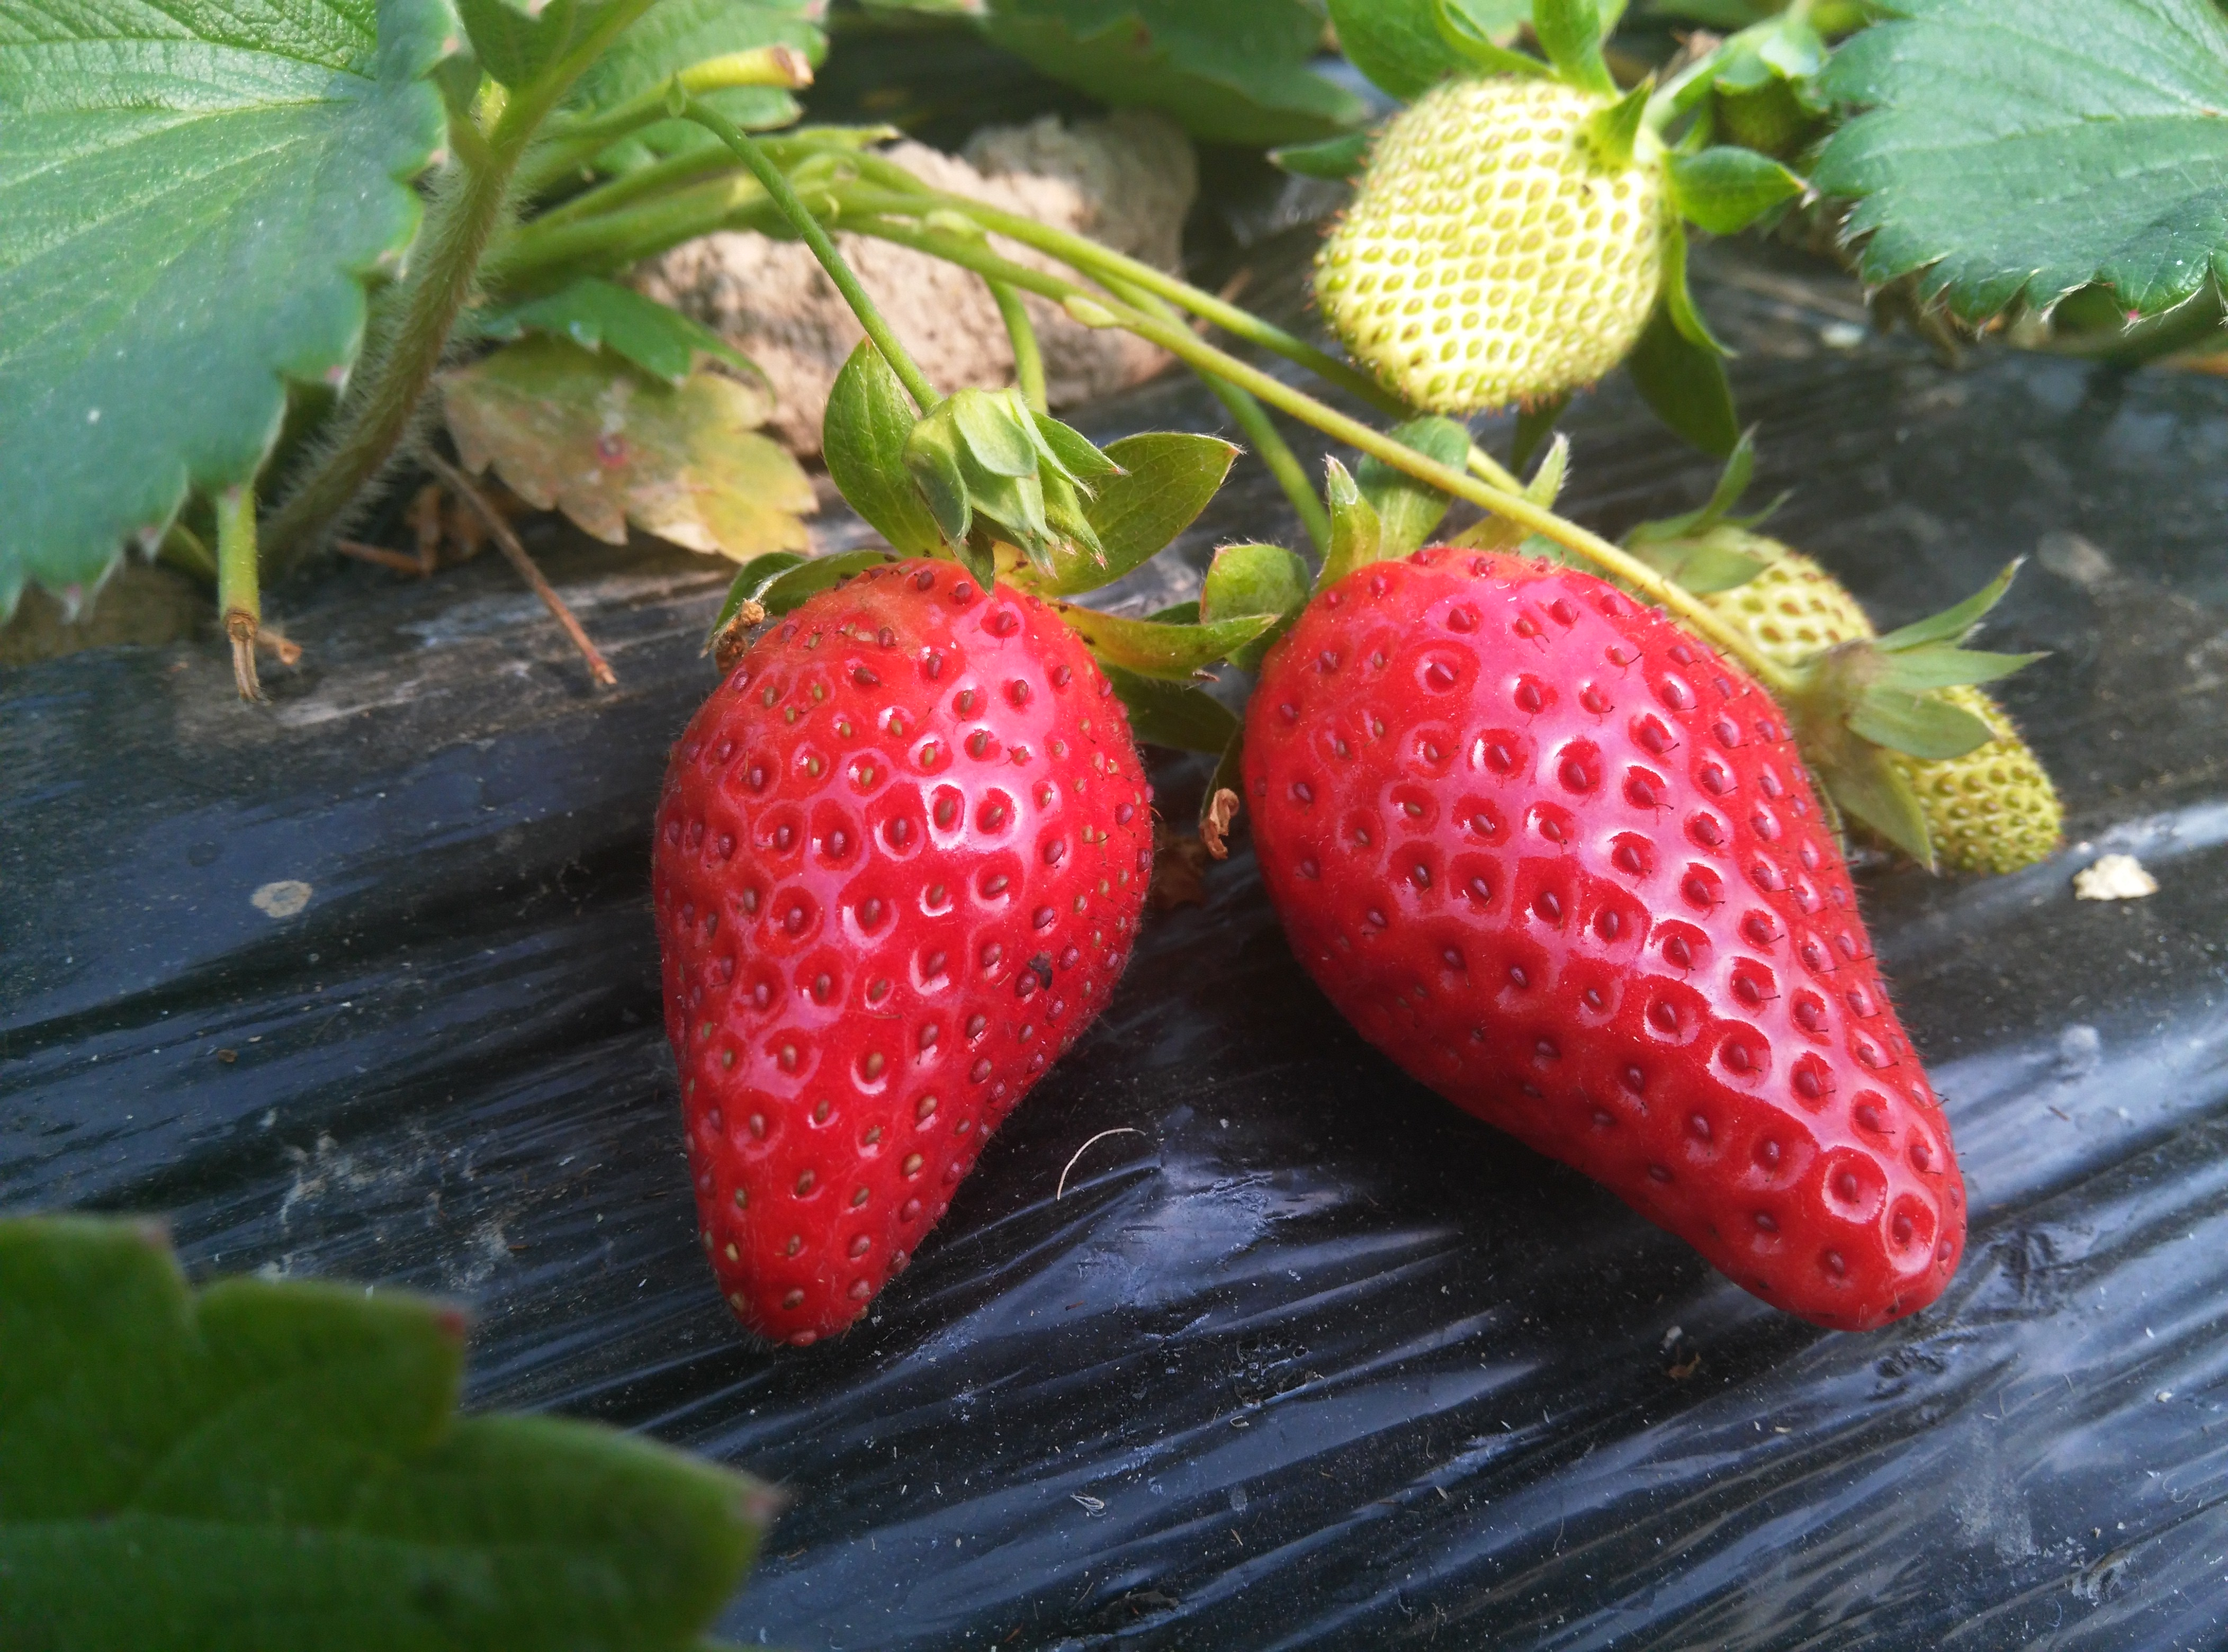StrawberryCone: (1241, 534, 1978, 1334), (637, 534, 1185, 1357)
StrawberryIrremovable: (1314, 73, 1681, 418), (1820, 646, 2079, 873), (1619, 514, 1886, 696)
StrawberryRemovable: (1246, 534, 1976, 1331), (642, 536, 1182, 1355)
